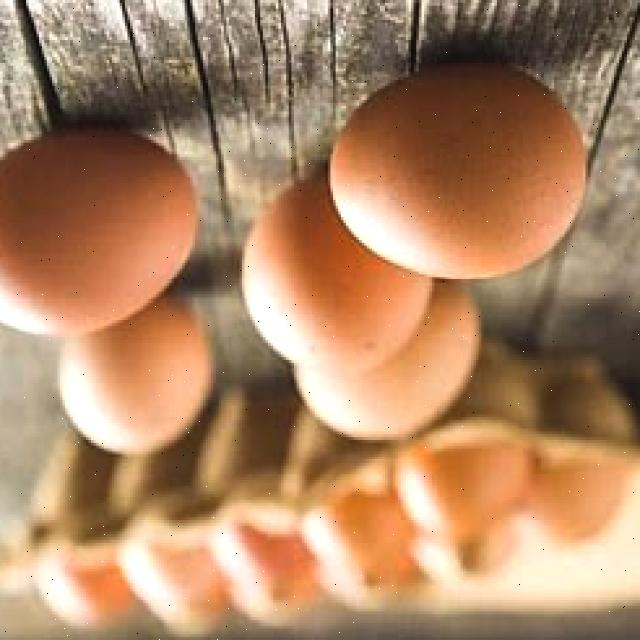Brown Egg: (329, 59, 590, 290), (0, 97, 208, 329), (247, 178, 447, 373), (294, 297, 490, 435), (60, 317, 221, 459), (394, 429, 534, 538), (213, 514, 335, 589), (30, 559, 139, 637), (302, 492, 413, 566), (134, 541, 221, 604)
